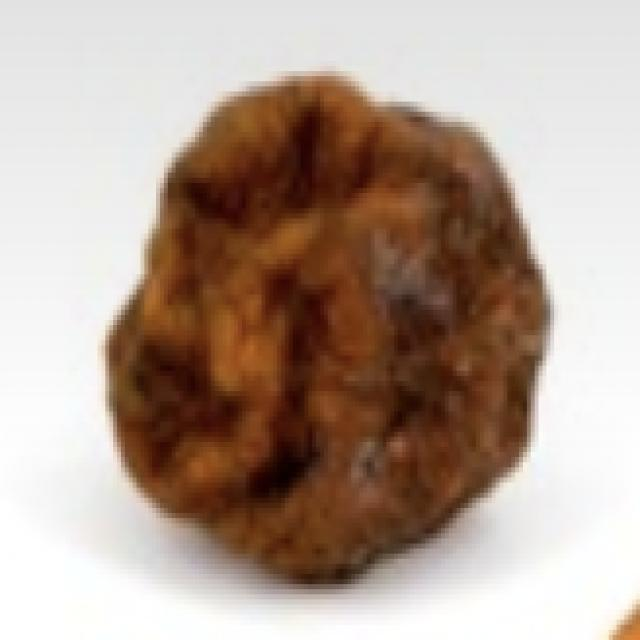rotten-orange: (96, 70, 554, 581)
